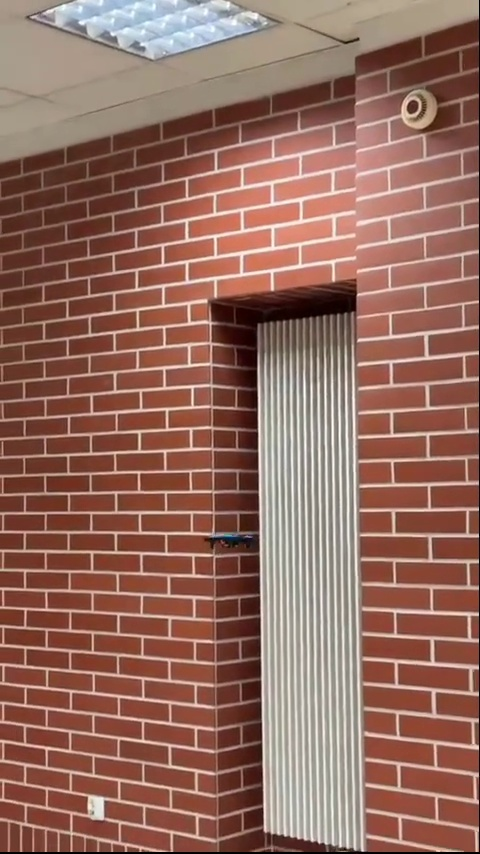drone: (197, 528, 265, 553)
